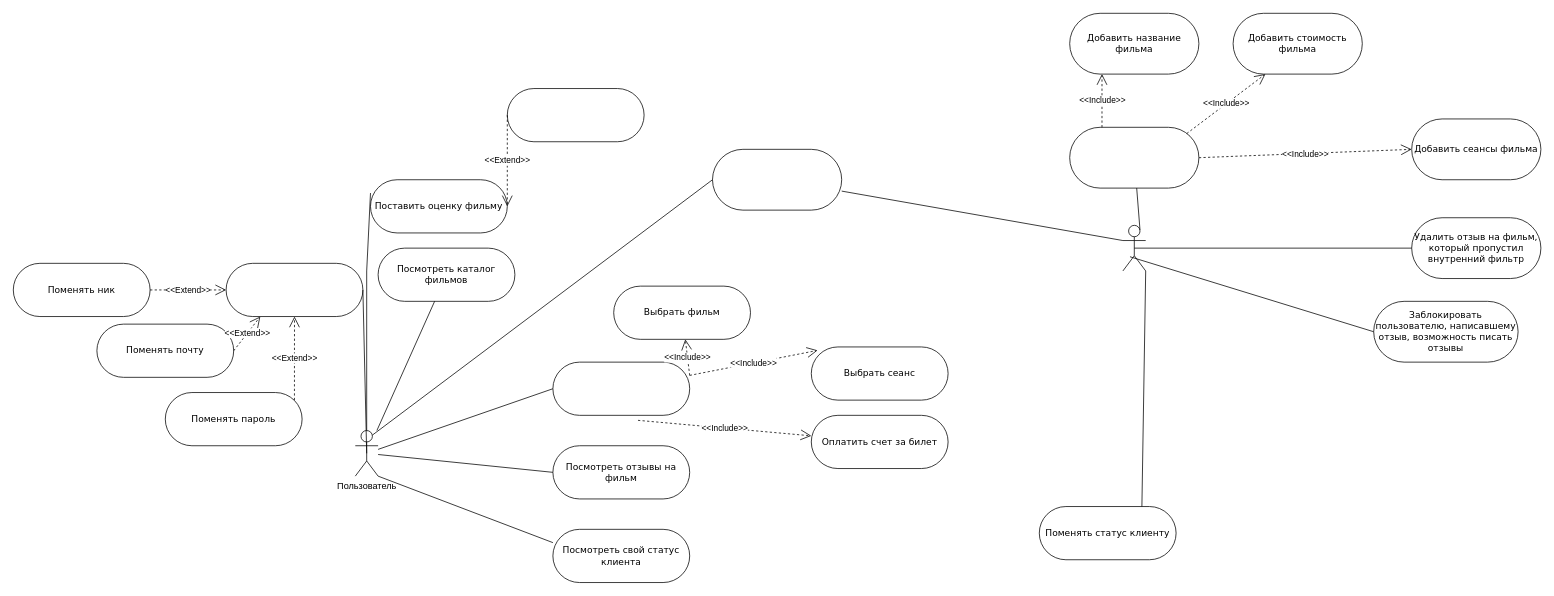
Some shapes in this 1554 by 596 pixel diagram are drawn without their labels. The box of each missing label's shape, as (x1, y1, x2, y2) in pixels:
Администратор: (1122, 225, 1146, 271)
Вход в учетную запись: (712, 149, 842, 210)
Добавить фильм: (1069, 127, 1199, 188)
Купить билет на фильм: (552, 361, 690, 415)
Написать отзыв фильму: (507, 88, 644, 142)
Редактировать свой профиль: (225, 263, 363, 317)
